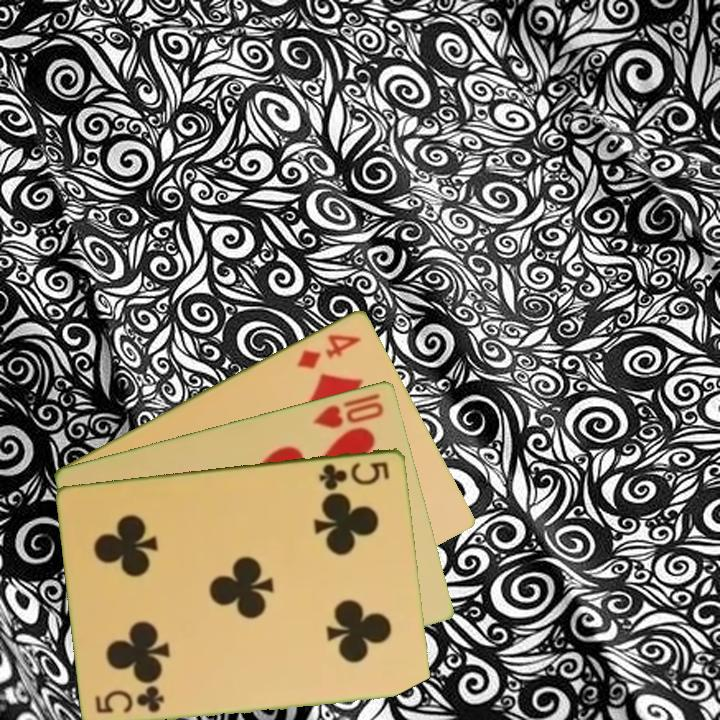10h: (309, 389, 387, 431)
4d: (293, 330, 364, 372)
5c: (316, 457, 393, 493), (92, 685, 168, 716)
